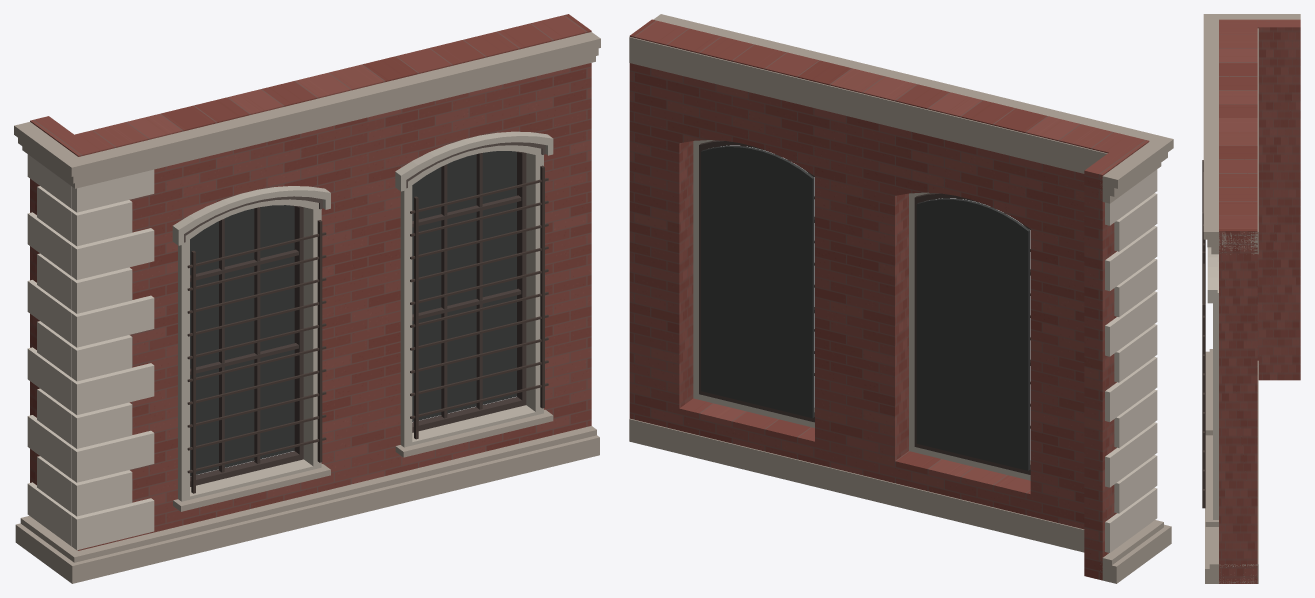
The model's file is huangpu-metropole-east-wing-brick-window-pair-lod.glb.
The picture shows the model from 3 angles, left to right: view 1: azimuth 30°, elevation 25°; view 2: azimuth 150°, elevation 25°; view 3: azimuth 270°, elevation 25°; orthographic projection. The views are drawn at different scales.
Visible parts, largest first — view 1: 都城饭店东楼福州路双色墙角与双券窗; view 2: 都城饭店东楼福州路双色墙角与双券窗; view 3: 都城饭店东楼福州路双色墙角与双券窗.
Boxes of the visible parts, box(x1,y1,x2,y2) form: 都城饭店东楼福州路双色墙角与双券窗: box(14, 14, 600, 583); 都城饭店东楼福州路双色墙角与双券窗: box(629, 14, 1173, 583); 都城饭店东楼福州路双色墙角与双券窗: box(1202, 14, 1300, 583).
Size of the model in its own units: 4.81 by 3.63 by 0.916.
8 materials, 1 textured.
